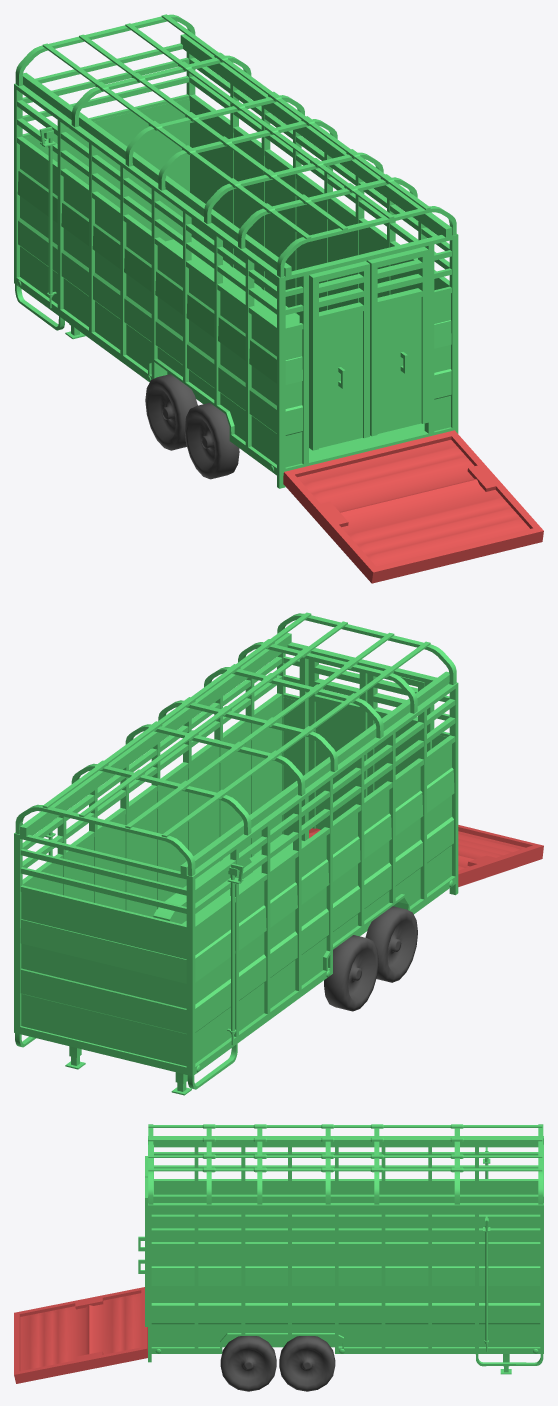
Rendered from Betailliere.fbx.
The picture shows the model from 3 angles, top to bottom: view 1: azimuth 30°, elevation 25°; view 2: azimuth 150°, elevation 25°; view 3: azimuth 270°, elevation 25°; orthographic projection. The views are drawn at different scales.
Parts seen in each view (by area): view 1: Cage, Plateforme, Door, Door.001, Roues; view 2: Cage, Roues, Door.001, Plateforme, Door; view 3: Cage, Plateforme, Roues, Door.001.
Boxes of the visible parts, box(x1,y1,x2,y2) form: Cage: box(14, 14, 458, 488); Plateforme: box(283, 430, 543, 583); Door: box(309, 261, 369, 450); Door.001: box(367, 247, 428, 436); Roues: box(145, 374, 239, 479); Cage: box(14, 612, 458, 1095); Roues: box(324, 906, 417, 1011); Door.001: box(308, 659, 367, 829); Plateforme: box(309, 825, 543, 886); Door: box(367, 673, 424, 795); Cage: box(148, 1124, 543, 1374); Plateforme: box(14, 1287, 147, 1383); Roues: box(220, 1336, 335, 1391); Door.001: box(138, 1177, 147, 1326).
Size of the model in its own units: 743 by 981 by 2255.
